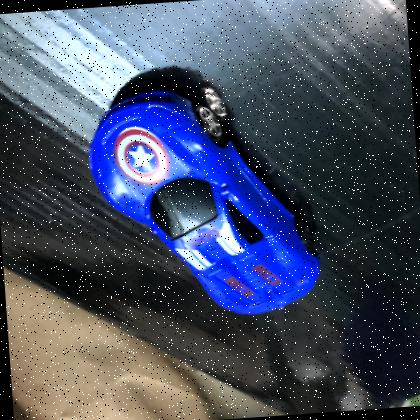Car: (88, 90, 321, 314)
